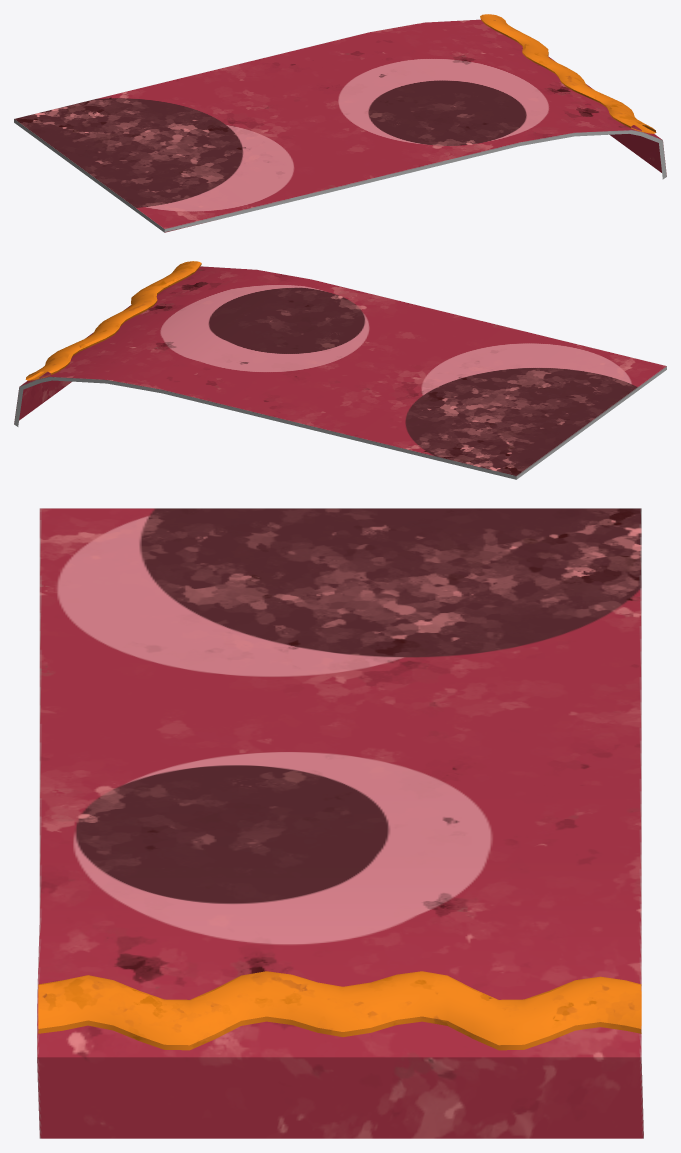
The model's file is exterior suelo base.fbx.
3 views of the same model, one above another, from view 1: azimuth 30°, elevation 25°; view 2: azimuth 150°, elevation 25°; view 3: azimuth 270°, elevation 25° (orthographic). The views are drawn at different scales.
Visible parts, largest first — view 1: Cube.103; view 2: Cube.103; view 3: Cube.103.
Boxes of the visible parts, <box> form: Cube.103: <box>14,14,666,232</box>; Cube.103: <box>14,261,666,479</box>; Cube.103: <box>37,508,643,1138</box>.
Size of the model in its own units: 772 by 106 by 405.
